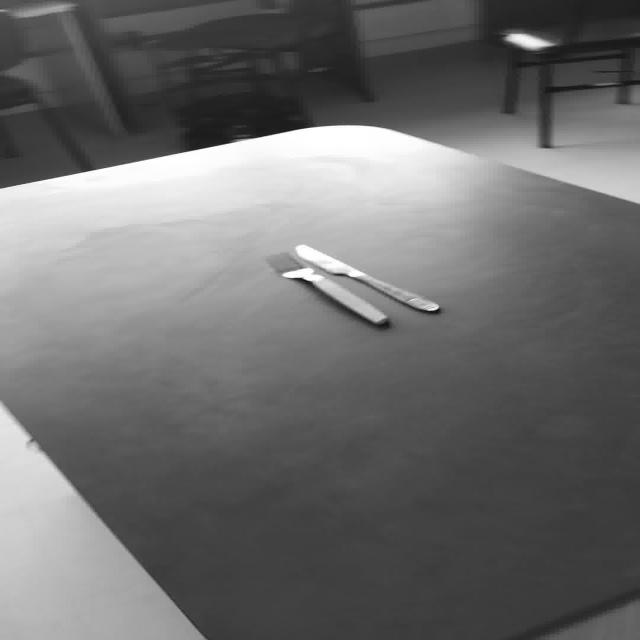fork: (265, 250, 387, 325)
knife fork: (292, 242, 439, 312)
